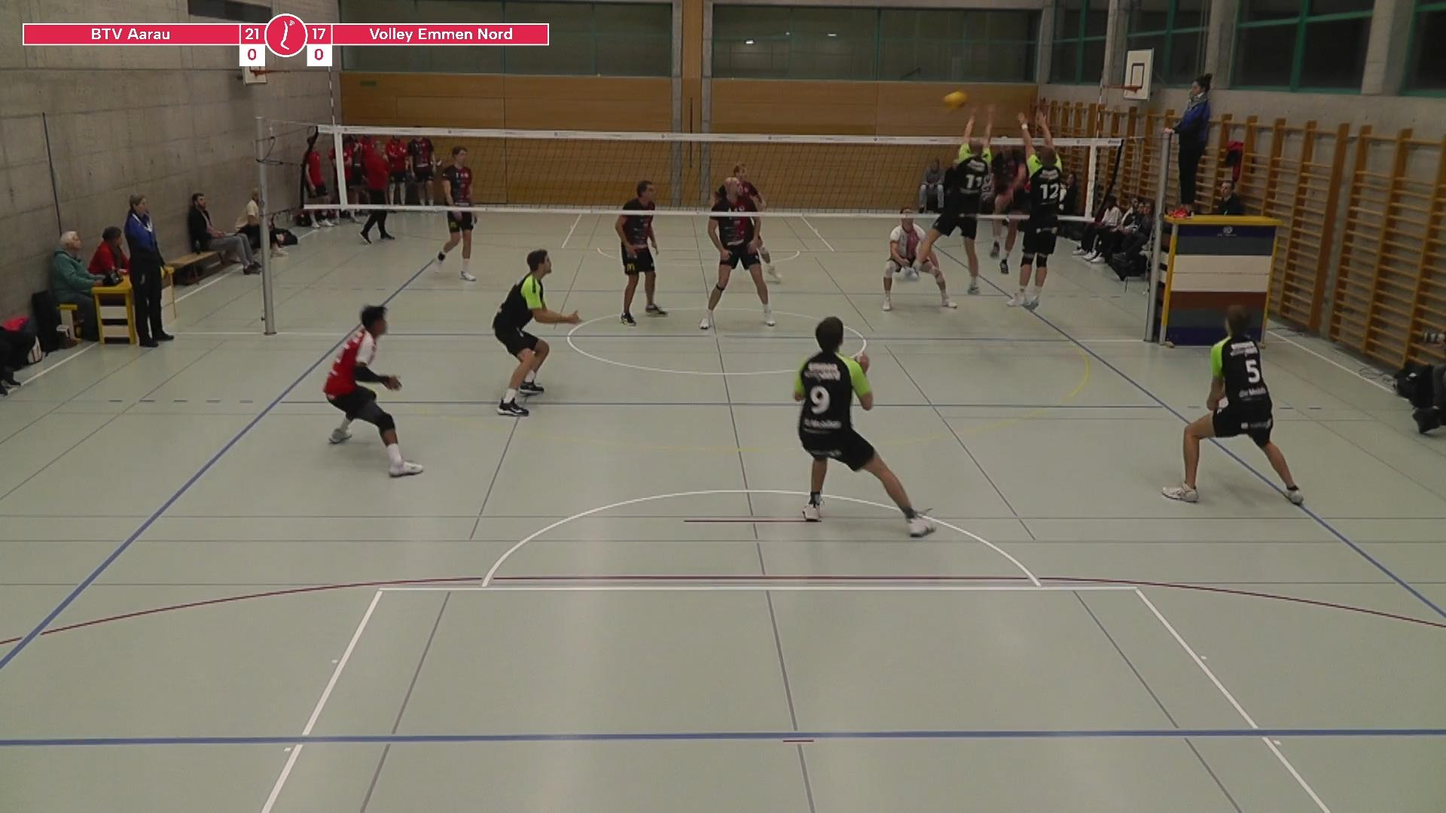Attack: (985, 132, 1039, 282)
Block: (992, 109, 1081, 321)
Player: (794, 316, 934, 537), (1163, 306, 1303, 504), (910, 102, 1005, 300), (324, 306, 423, 477), (493, 249, 580, 416), (700, 177, 775, 330), (883, 206, 956, 311), (615, 181, 666, 326), (437, 147, 476, 281), (733, 163, 765, 211)
ball: (944, 85, 966, 111)
